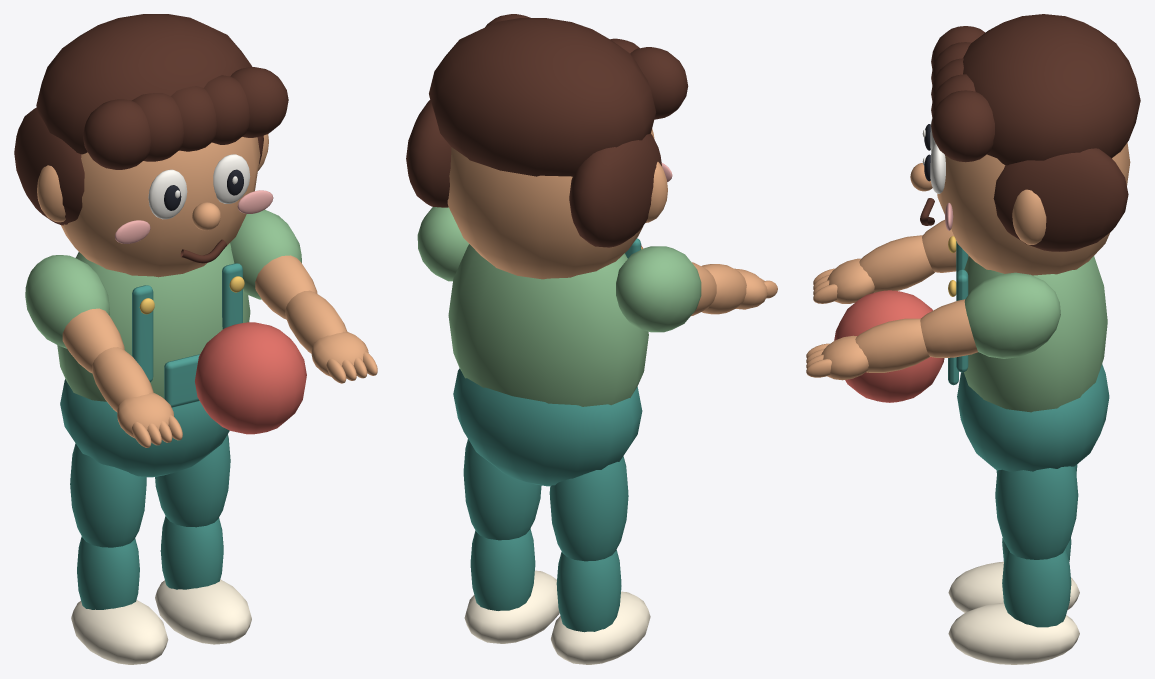
File: daddy-throw.glb
The picture shows the model from 3 angles, left to right: view 1: azimuth 30°, elevation 25°; view 2: azimuth 150°, elevation 25°; view 3: azimuth 270°, elevation 25°; orthographic projection. The views are drawn at different scales.
Parts seen in each view (by area): view 1: hair cap, clay head, soft shirt, soft ball, overalls, trouser leg, shirt sleeve, little shoe.001, little shoe, bob hair, trouser leg.001, fringe (+22 smaller); view 2: hair cap, soft shirt, clay head, overalls, bob hair, trouser leg, shirt sleeve, trouser leg.001, lower leg.001, lower leg, little shoe, little shoe.001 (+7 smaller); view 3: hair cap, soft shirt, bob hair.001, overalls, clay head, trouser leg.001, shirt sleeve.001, little shoe.001, soft ball, lower leg.001, fringe.004, forearm.001 (+13 smaller).
Part boxes in pixels (x1,y1,x2,y2): hair cap: [36, 14, 252, 154]; clay head: [61, 137, 260, 277]; soft shirt: [57, 243, 250, 401]; soft ball: [195, 322, 306, 434]; overalls: [60, 379, 229, 477]; trouser leg: [70, 443, 146, 547]; shirt sleeve: [25, 255, 109, 348]; little shoe.001: [155, 579, 251, 644]; little shoe: [71, 600, 168, 664]; bob hair: [14, 107, 84, 225]; trouser leg.001: [155, 434, 230, 527]; fringe: [83, 99, 150, 169]; hair cap: [429, 18, 655, 176]; soft shirt: [448, 244, 648, 406]; clay head: [447, 128, 654, 279]; overalls: [453, 368, 642, 486]; bob hair: [569, 133, 661, 247]; trouser leg: [549, 456, 628, 561]; shirt sleeve: [616, 246, 701, 332]; trouser leg.001: [463, 439, 541, 540]; lower leg.001: [470, 528, 535, 610]; lower leg: [556, 550, 621, 632]; little shoe: [551, 591, 650, 664]; little shoe.001: [464, 570, 559, 643]; hair cap: [963, 14, 1140, 165]; soft shirt: [964, 256, 1107, 412]; bob hair.001: [993, 148, 1128, 251]; overalls: [957, 364, 1109, 471]; clay head: [935, 142, 1130, 275]; trouser leg.001: [995, 466, 1078, 559]; shirt sleeve.001: [964, 272, 1060, 358]; little shoe.001: [948, 602, 1079, 664]; soft ball: [834, 290, 944, 402]; lower leg.001: [1002, 549, 1071, 627]; fringe.004: [931, 90, 994, 162]; forearm.001: [855, 318, 929, 372].
Bounding box in the file's own units: 0.957 × 2.14 × 1.06.
